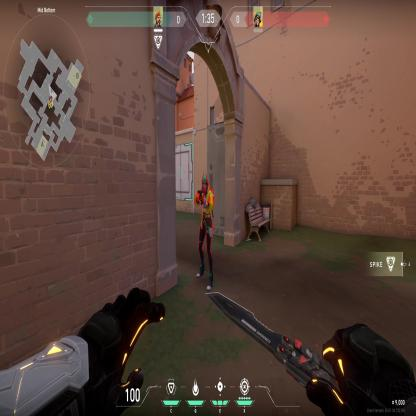enemy: (194, 172, 215, 292)
